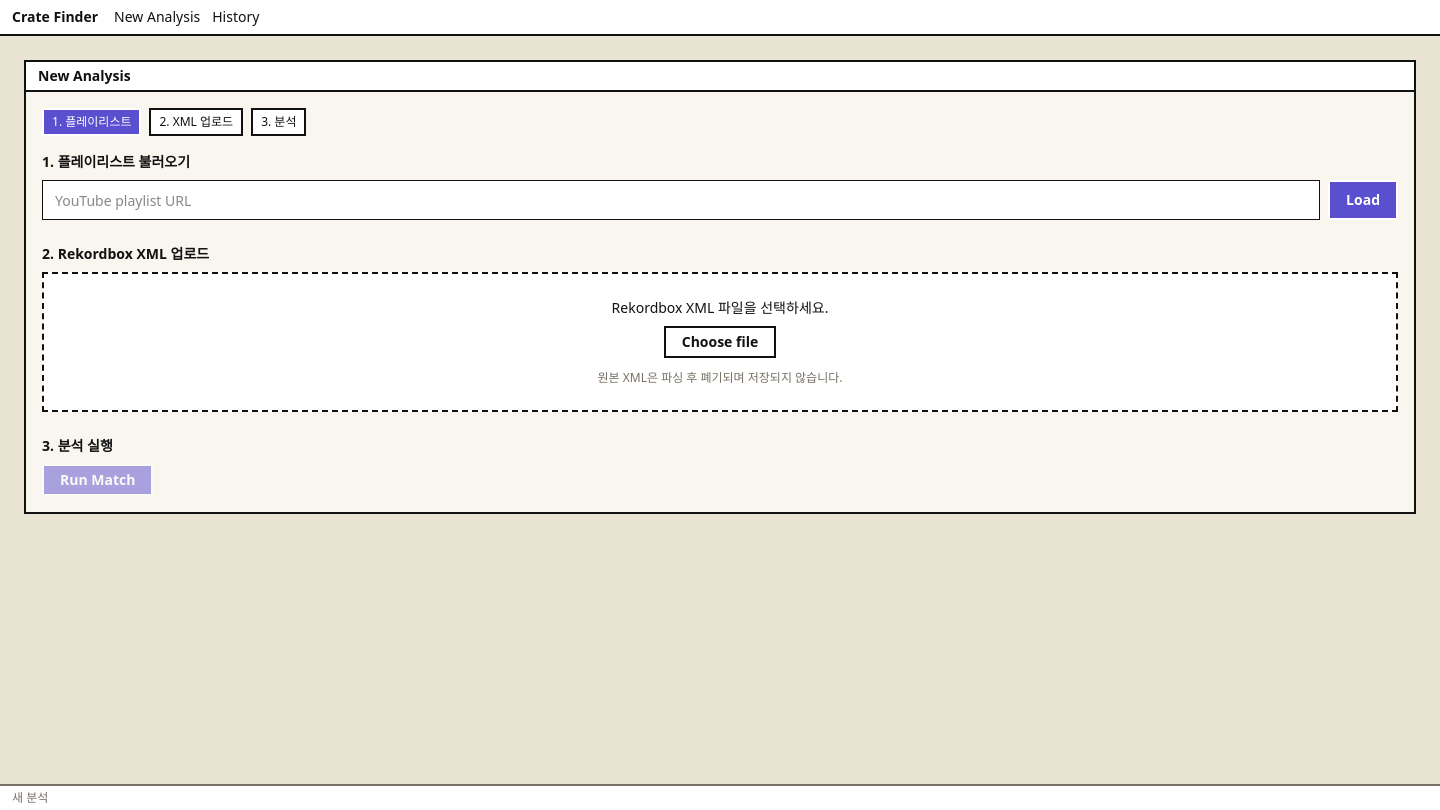
Test: AnalysisFlow › 플레이리스트만 로드하면 Run은 여전히 비활성화
This screenshot has width=1440, height=810.
Type "https://www.youtube.com/playlist?list=PL1" into the field with placeholder "YouTube playlist URL" at {"x": 681, "y": 200}, box [42,180,1320,220]
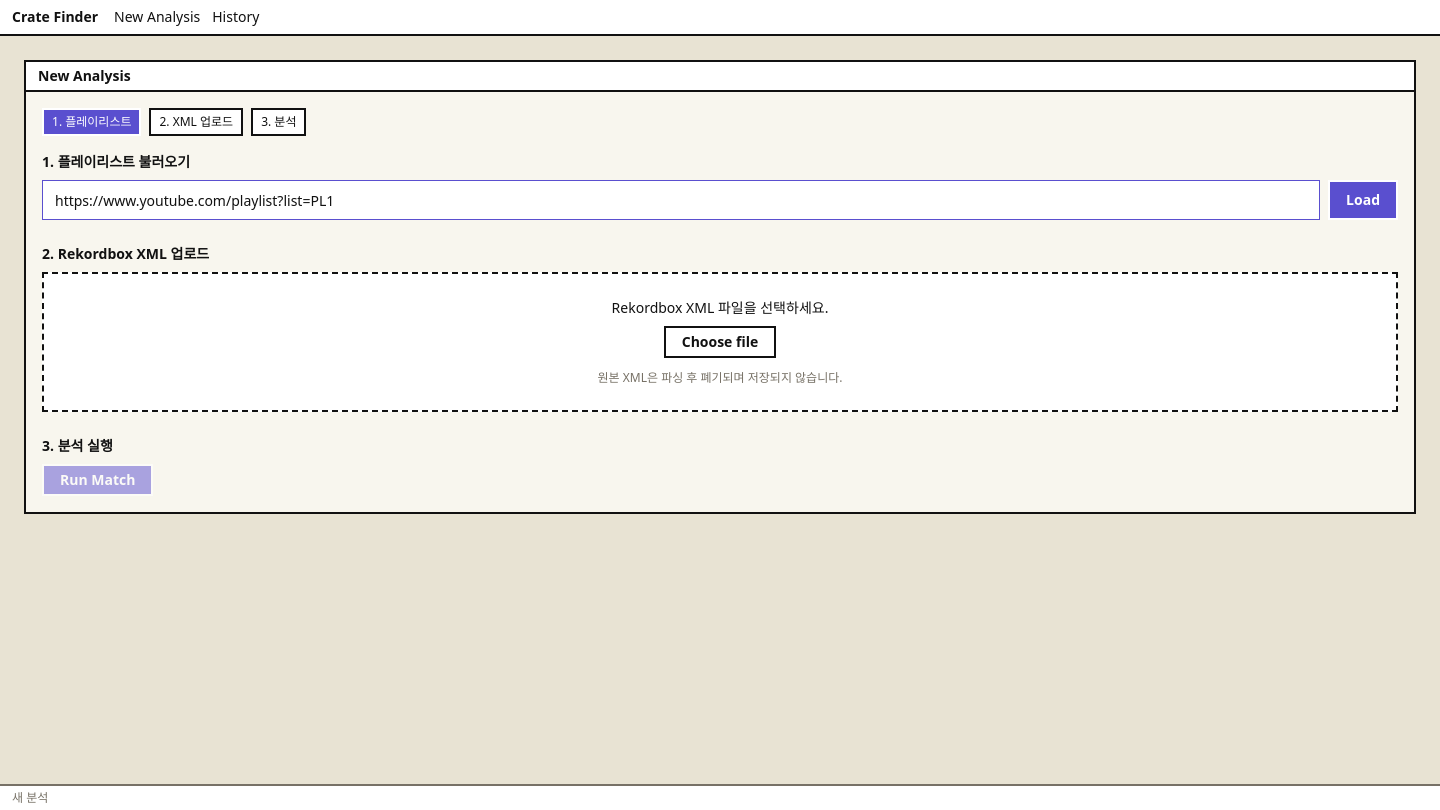
Click the button "Load" at {"x": 1363, "y": 200}, box [1328,180,1398,220]
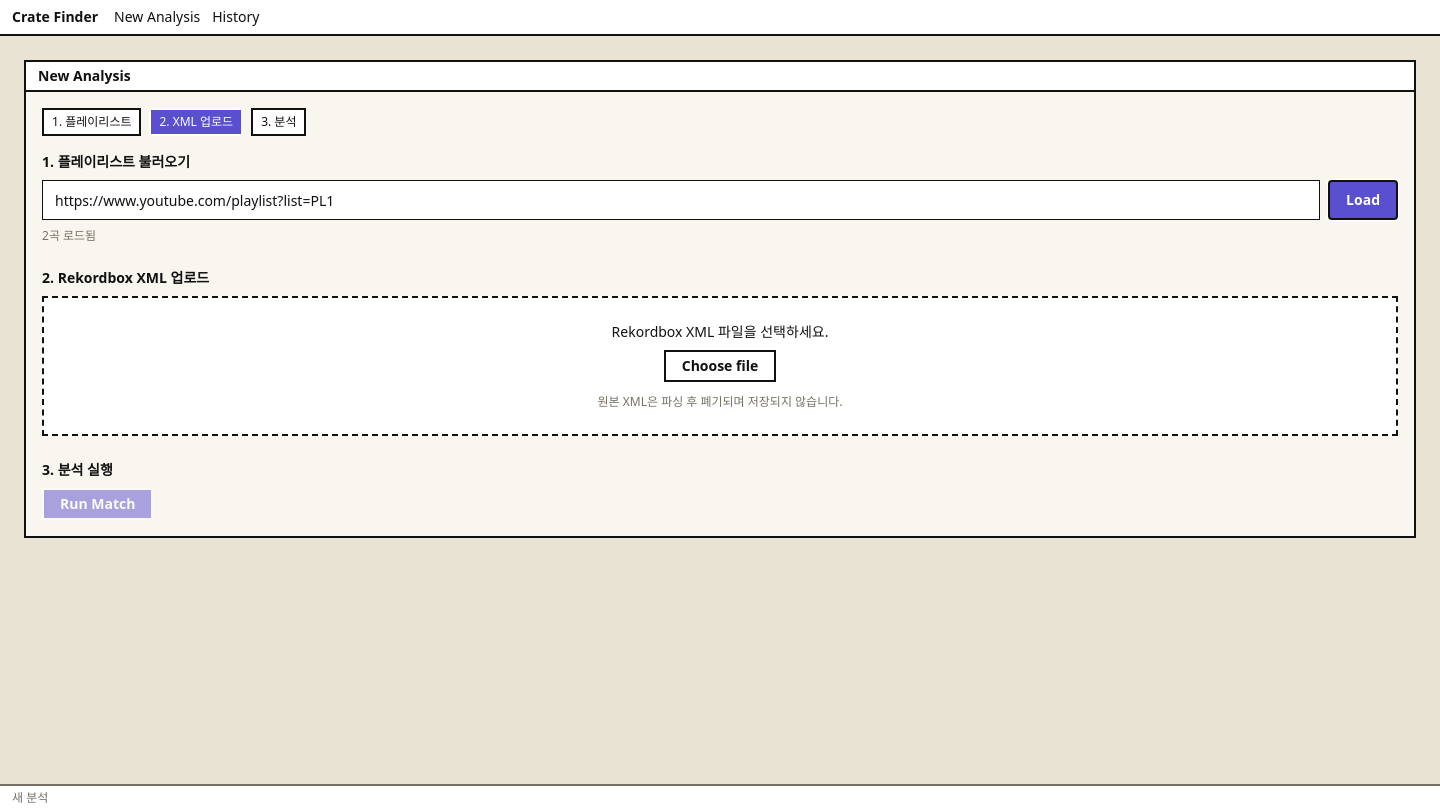
Expected: the button "Run Match" is disabled, [42,488,153,520]
Result: the text "2곡 로드됨" is shown at [42,227,96,244]
